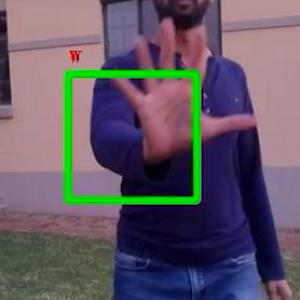follow_hand: (103, 10, 260, 164)
